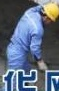boots: (0, 0, 9, 22), (0, 82, 9, 91)
gloves: (36, 57, 47, 71), (0, 22, 4, 30)
hard-hat: (0, 17, 10, 35)
ppe-suit: (0, 0, 26, 44)
